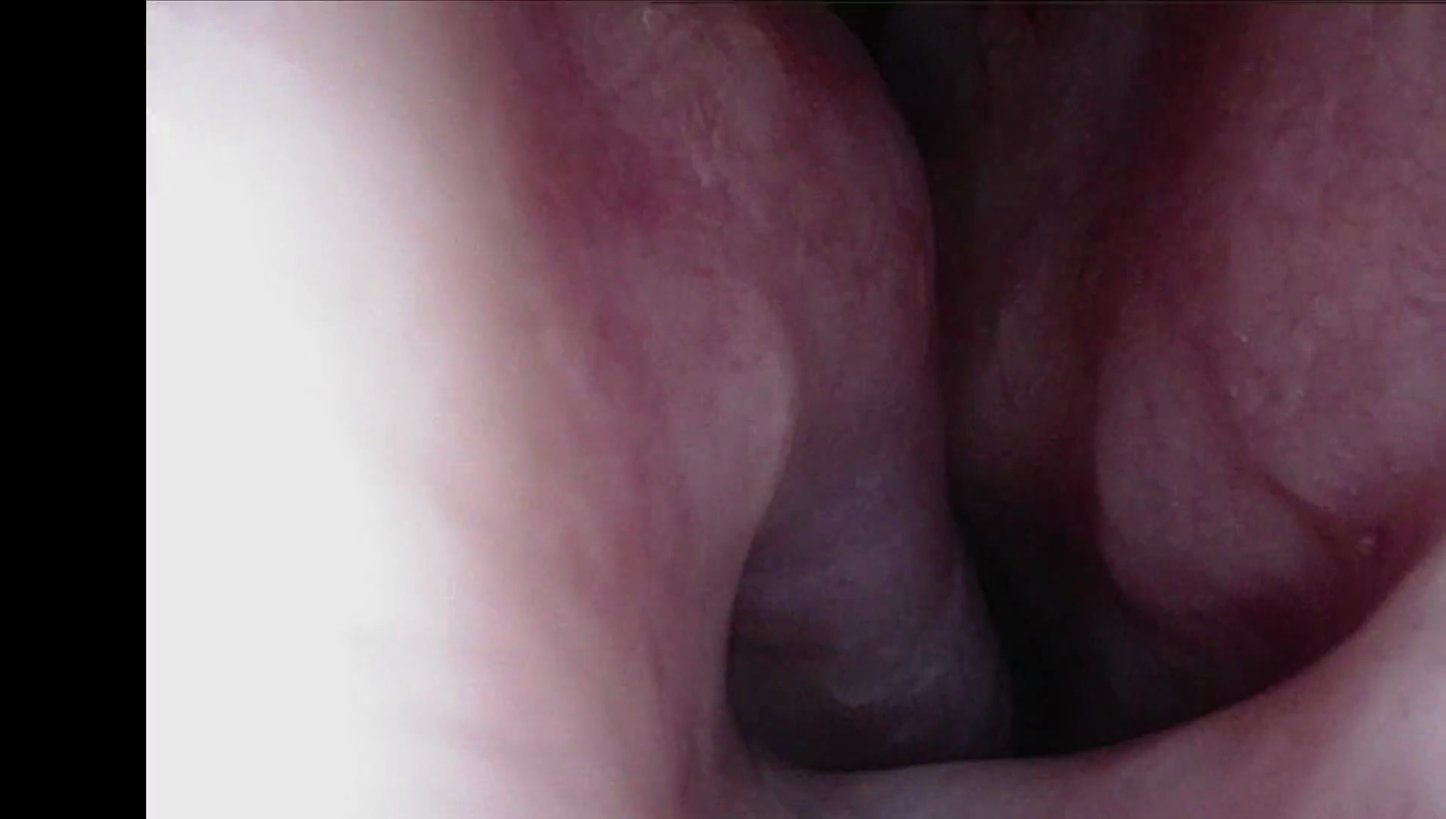close_wall: (152, 10, 748, 819)
next: (892, 403, 1187, 779), (843, 0, 1028, 221), (719, 596, 923, 772)
